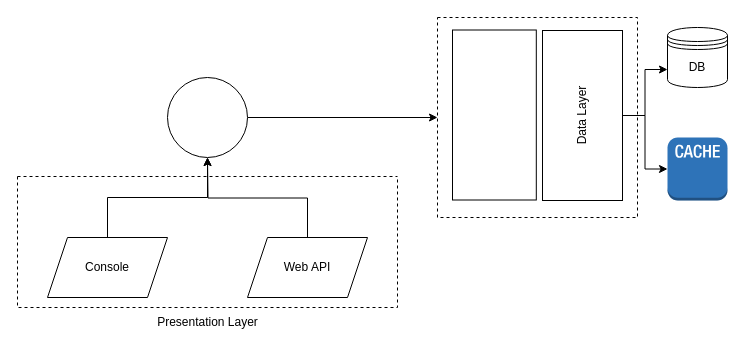
Image size: 745x355. Some labels were removed from this diagram. Here are the shapes that lost their labels. From the top down, the centre of each, then its label:
(207,117): ERM Core
(494,114): Business Layer
